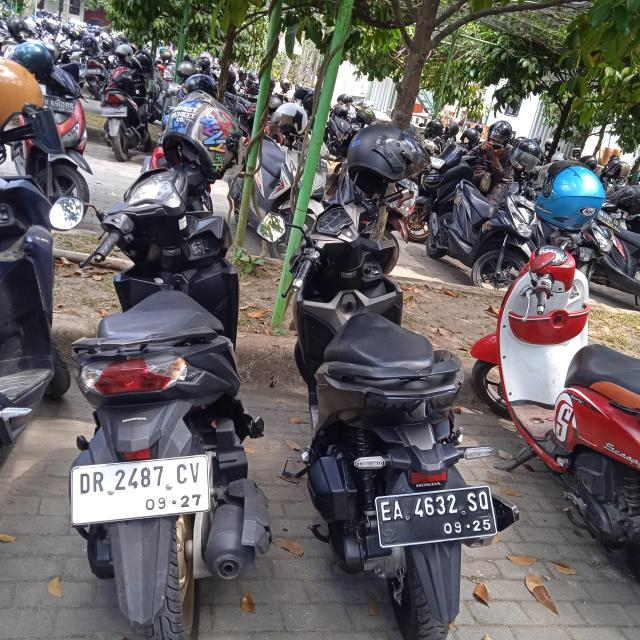plate: (70, 453, 211, 529), (374, 484, 500, 549)
